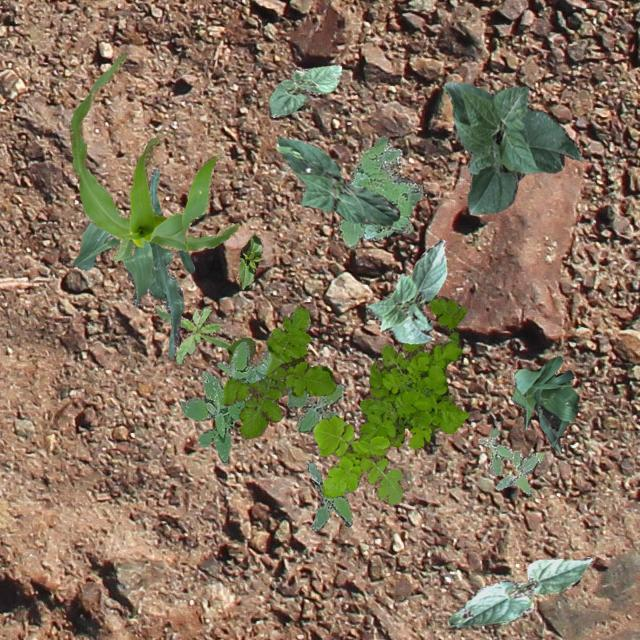crop: (68, 51, 238, 260), (73, 166, 194, 358), (442, 80, 582, 214), (276, 136, 398, 224), (446, 556, 592, 628), (364, 238, 446, 342), (511, 354, 578, 454), (268, 65, 340, 116), (236, 232, 262, 290)
weed: (353, 294, 467, 448), (222, 305, 336, 437), (180, 341, 272, 462), (338, 134, 423, 248), (313, 414, 402, 504), (154, 304, 232, 366), (478, 428, 542, 494), (224, 336, 286, 396), (304, 460, 352, 530), (286, 384, 344, 432)
